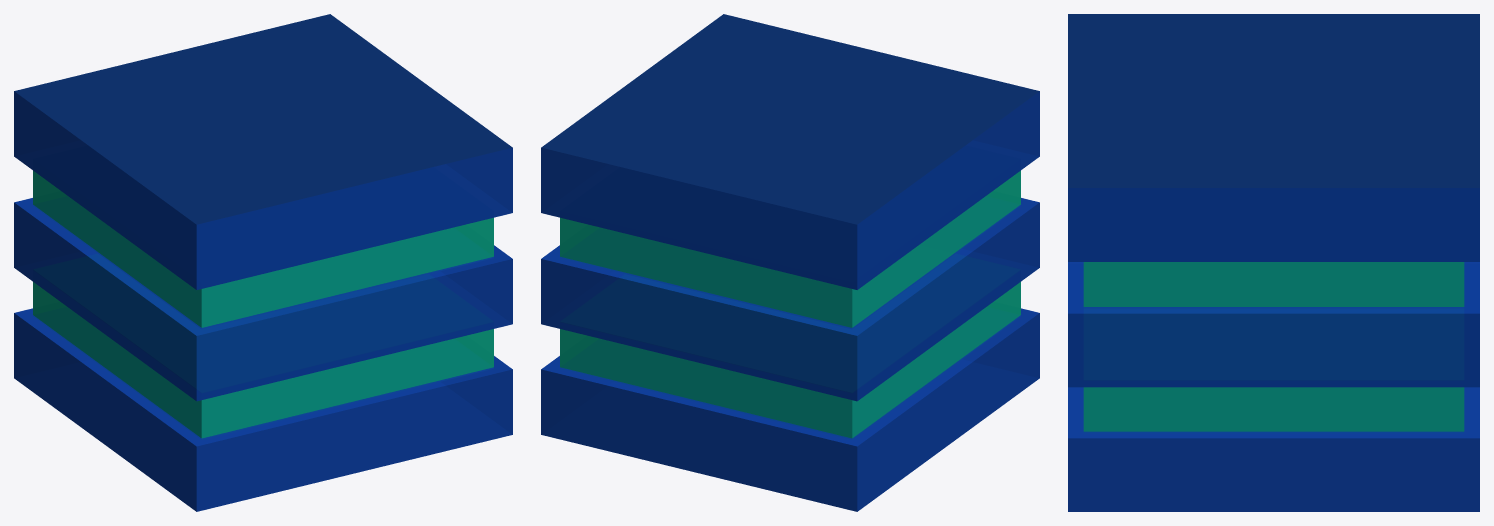
File: server.FBX
3 renders of one model, left to right at view 1: azimuth 30°, elevation 25°; view 2: azimuth 150°, elevation 25°; view 3: azimuth 270°, elevation 25°, orthographic. The views are drawn at different scales.
Parts seen in each view (by area): view 1: 对象398, Box263, Box261, Box265, Box264, Box262; view 2: 对象398, Box263, Box261, Box265, Box264, Box262; view 3: 对象398, Box263, Box261, Box265, Box262, Box264.
Part boxes in pixels (x1,y1,x2,y2): 对象398: (14, 14, 512, 224); Box263: (14, 198, 512, 401); Box261: (14, 308, 512, 511); Box265: (14, 91, 512, 289); Box264: (33, 170, 493, 327); Box262: (33, 282, 493, 438); 对象398: (541, 14, 1039, 224); Box263: (541, 198, 1039, 401); Box261: (541, 308, 1039, 511); Box265: (541, 91, 1039, 289); Box264: (560, 170, 1020, 327); Box262: (560, 282, 1020, 438); 对象398: (1068, 14, 1479, 187); Box263: (1068, 262, 1479, 387); Box261: (1068, 387, 1479, 511); Box265: (1068, 188, 1479, 261); Box262: (1083, 387, 1464, 431); Box264: (1083, 262, 1464, 306).
Bounding box in the file's own units: 480 × 417 × 480.
